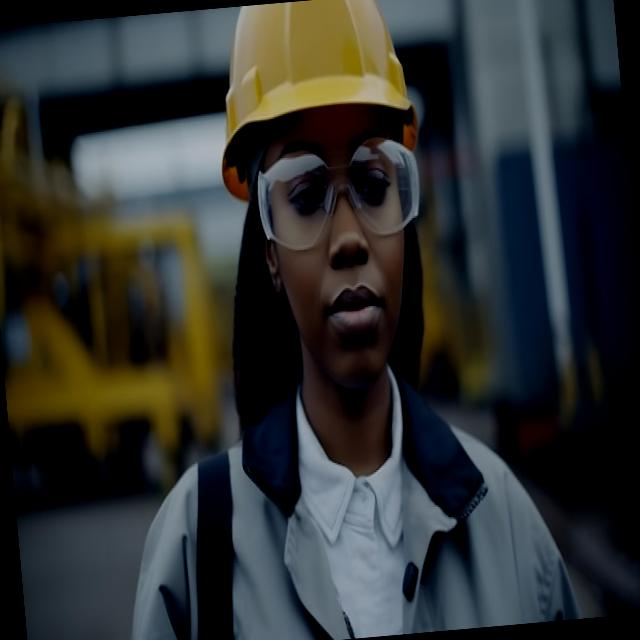goggles: (250, 128, 425, 252)
helmet: (194, 0, 424, 200)
no-vest: (149, 411, 577, 640)
